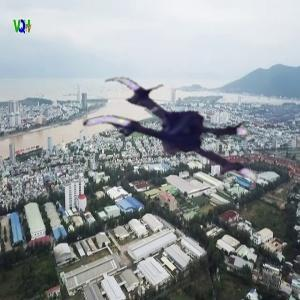drone: (81, 58, 260, 237)
